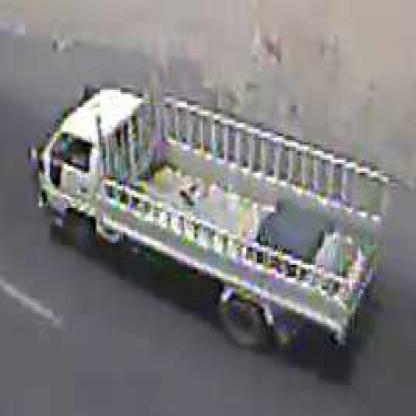truck: (37, 91, 386, 353)
